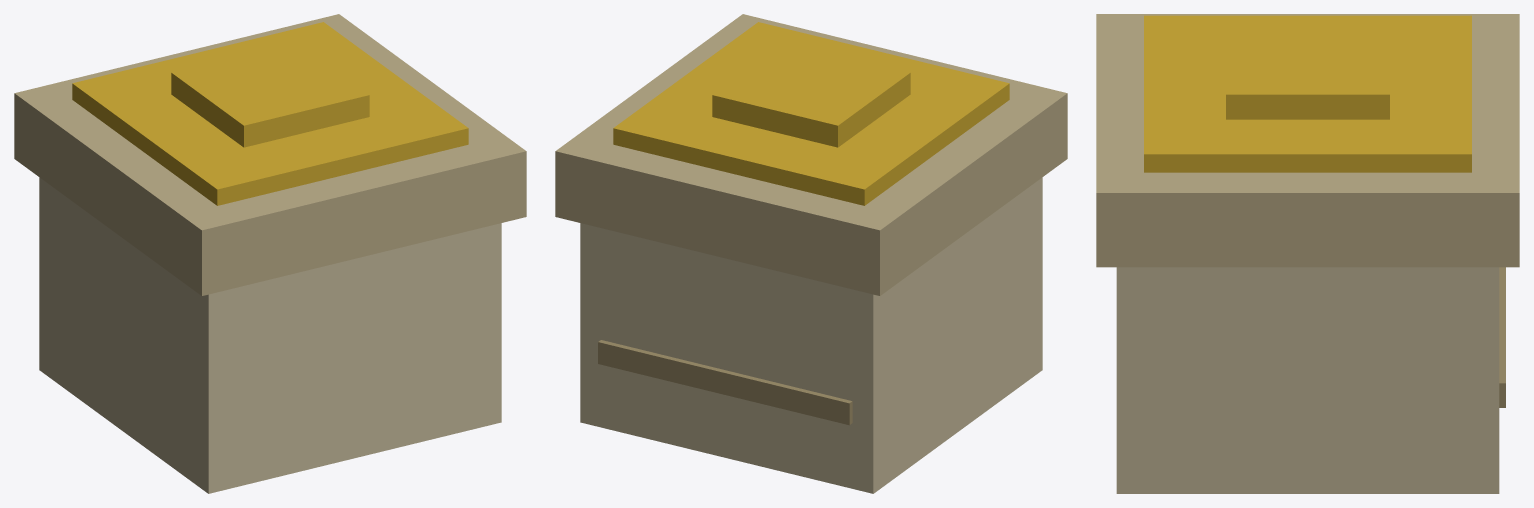
File: cp-sack-corn.glb
3 renders of one model, left to right at view 1: azimuth 30°, elevation 25°; view 2: azimuth 150°, elevation 25°; view 3: azimuth 270°, elevation 25°, orthographic. The views are drawn at different scales.
Visible parts, largest first — view 1: box-prop; view 2: box-prop; view 3: box-prop.
Boxes of the visible parts, x1,y1,x2,y2 form: box-prop: (14, 14, 526, 493); box-prop: (555, 14, 1067, 493); box-prop: (1096, 14, 1519, 493).
Size of the model in its own units: 0.62 by 0.57 by 0.62.
